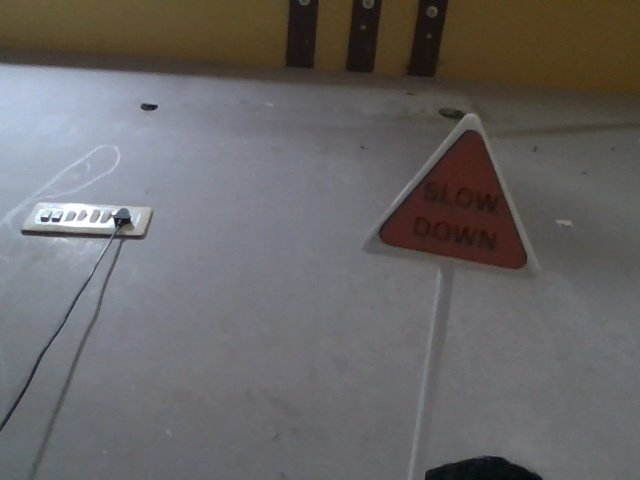slowdown: (367, 121, 549, 276)
